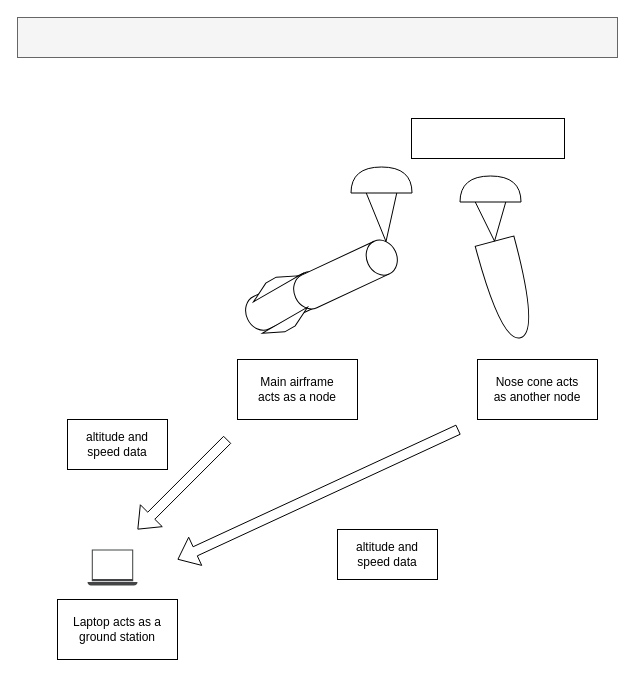
Some shapes in this 635 by 677 pixel diagram are drawn without their labels. Here are the shapes that lost their labels. From the top down, the box of each, then its label:
(16, 16, 618, 58): Mission Concept 1
(410, 118, 564, 158): seperate recovery devices
